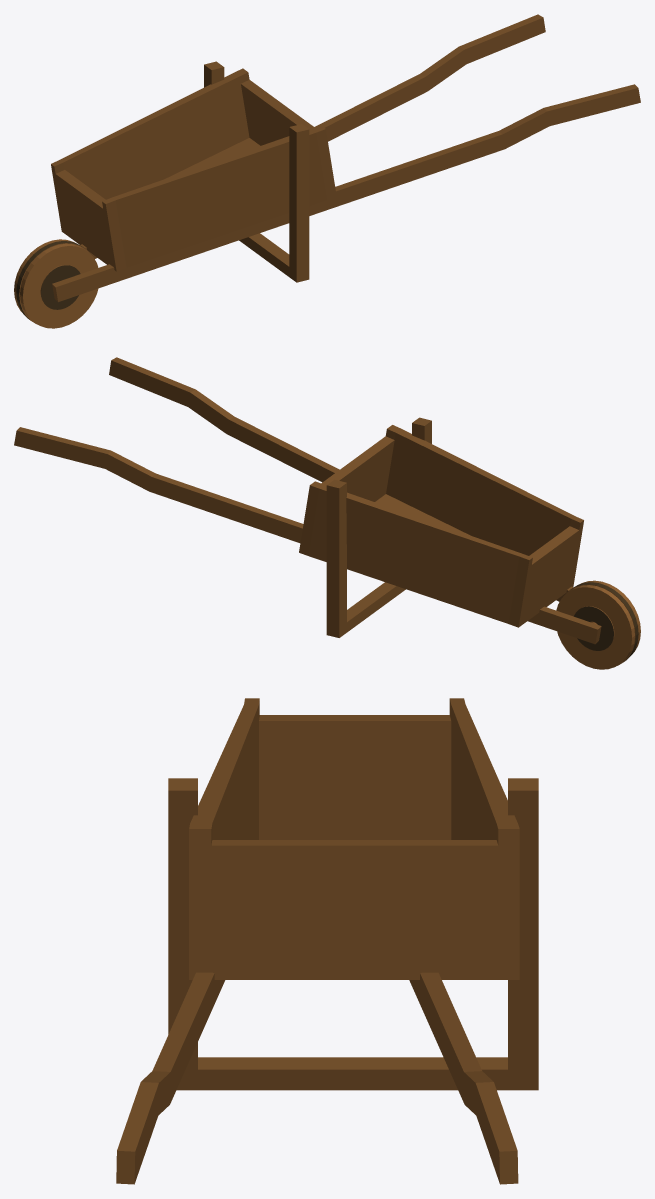
The model's file is Gerobak.fbx.
3 renders of one model, top to bottom at view 1: azimuth 30°, elevation 25°; view 2: azimuth 150°, elevation 25°; view 3: azimuth 270°, elevation 25°, orthographic. The views are drawn at different scales.
Visible parts, largest first — view 1: Cube.032; view 2: Cube.032; view 3: Cube.032.
Boxes of the visible parts, x1,y1,x2,y2 form: Cube.032: [14, 14, 640, 328]; Cube.032: [14, 357, 640, 669]; Cube.032: [116, 698, 538, 1184].
Bounding box in the file's own units: 800 × 226 × 255.
